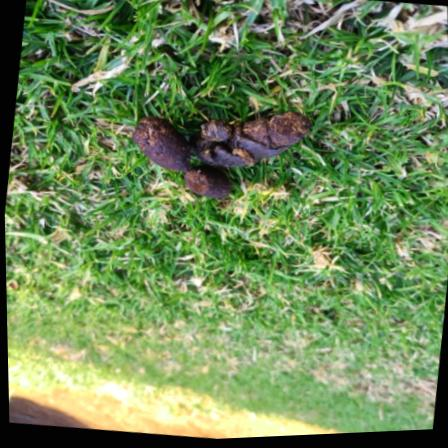dog-poop: (113, 83, 323, 230)
